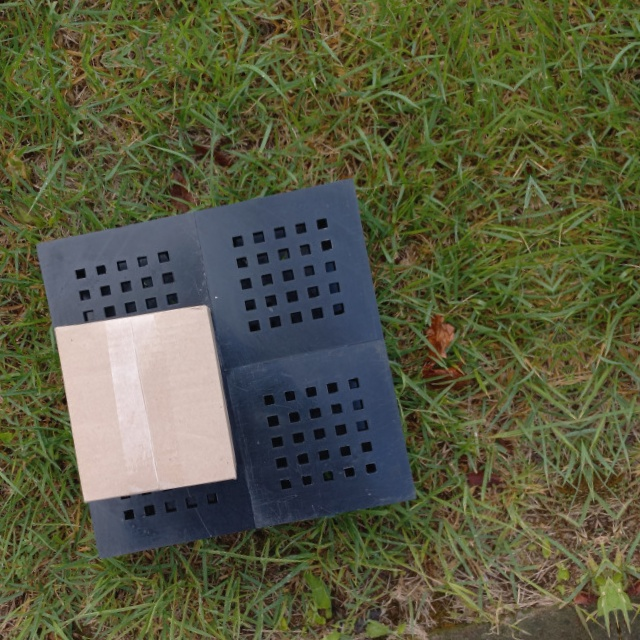box: (50, 301, 239, 504)
pallet: (31, 164, 424, 564)
